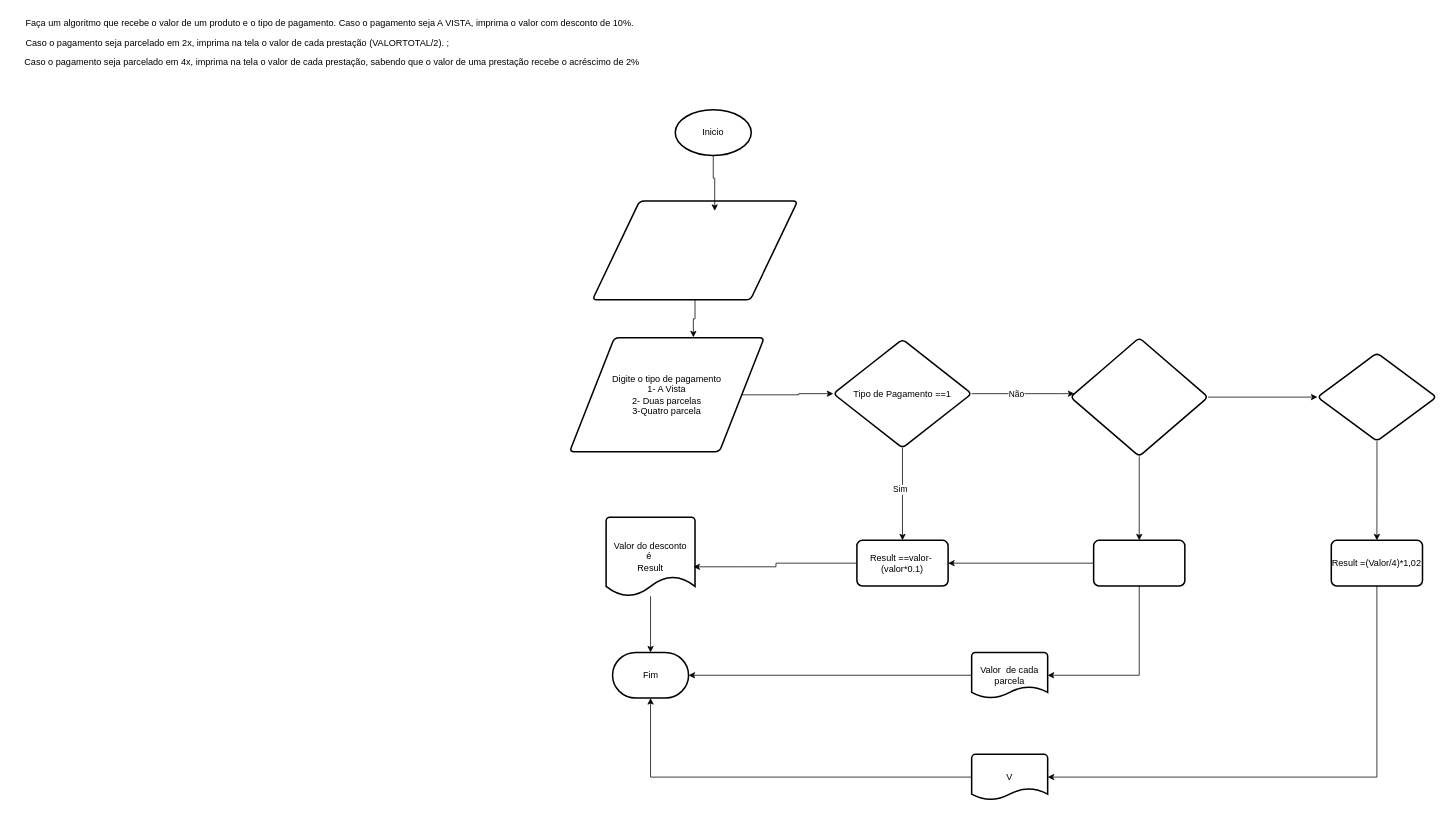
Image size: 1450x813. Some labels were removed from this diagram. Each missing label, with the centre of its shape:
"Digite o valor do produto" goes at [694,250].
"Result = valor/2" goes at [1138,562].
"Tipo Pagamento == 2" goes at [1138,397].
"Tipo Pagamento==3" goes at [1376,397].
